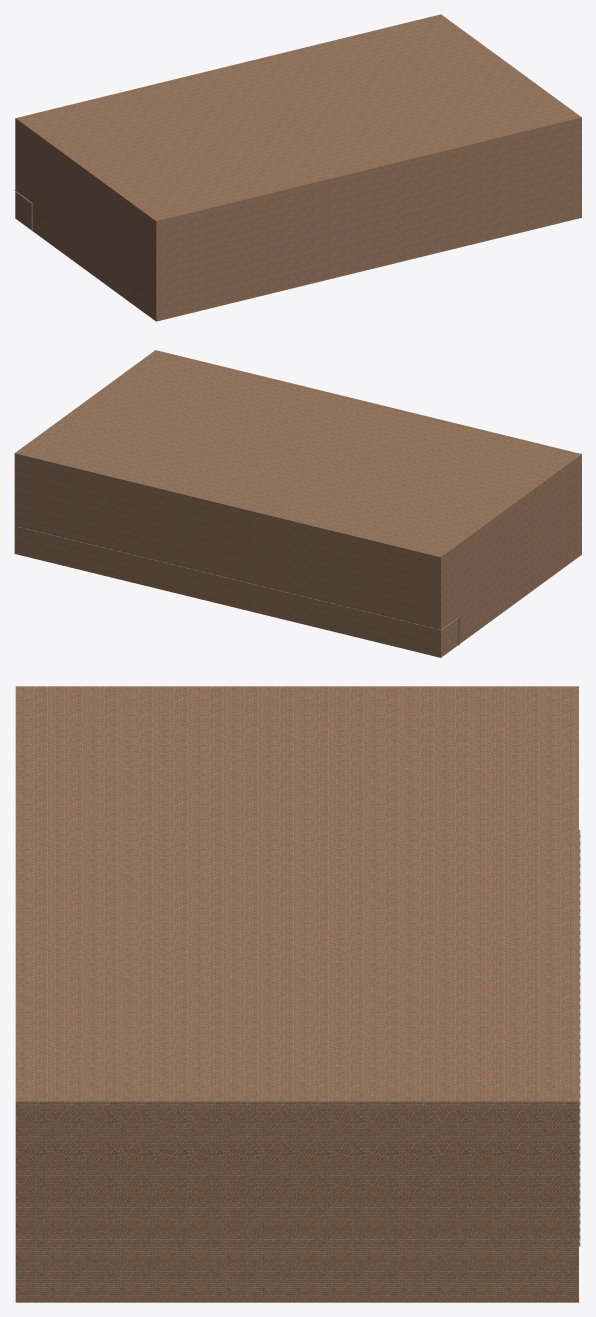
The model's file is map.FBX.
3 renders of one model, top to bottom at view 1: azimuth 30°, elevation 25°; view 2: azimuth 150°, elevation 25°; view 3: azimuth 270°, elevation 25°, orthographic. The views are drawn at different scales.
Parts seen in each view (by area): view 1: Map; view 2: Map; view 3: Map.
Part boxes in pixels (left/top/right/bottom): Map: left=14, top=14, right=581, bottom=321; Map: left=14, top=350, right=581, bottom=657; Map: left=15, top=686, right=580, bottom=1302.
Size of the model in its own units: 45.04 by 10.25 by 25.79.
4 materials, 4 textured.
